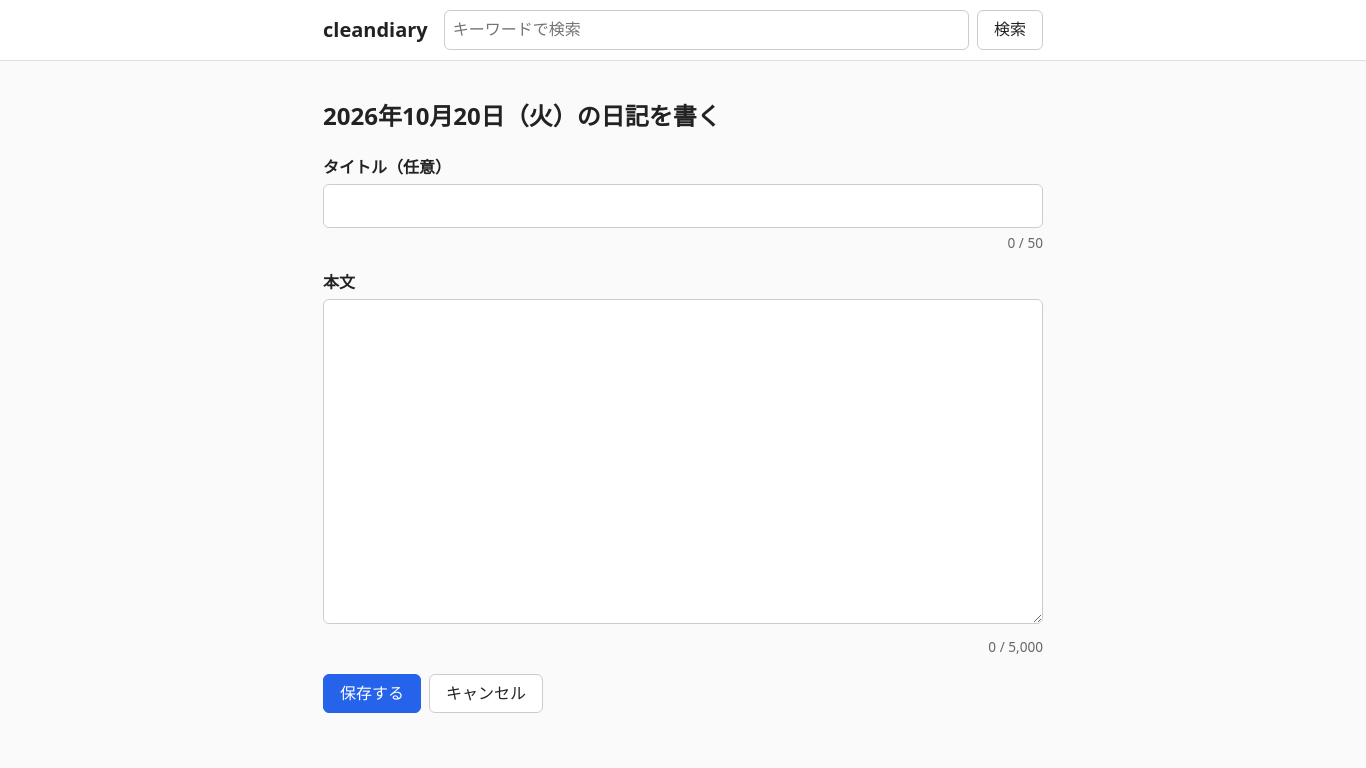
日記編集画面 › 新しく書く › 文字数を表示する
Check: the text "0 / 5,000" is shown, box x1=988 y1=637 x2=1043 y2=656
Type "こんにちは" into the text box labelled "本文" at {"x": 683, "y": 462}, box x1=323 y1=299 x2=1043 y2=624
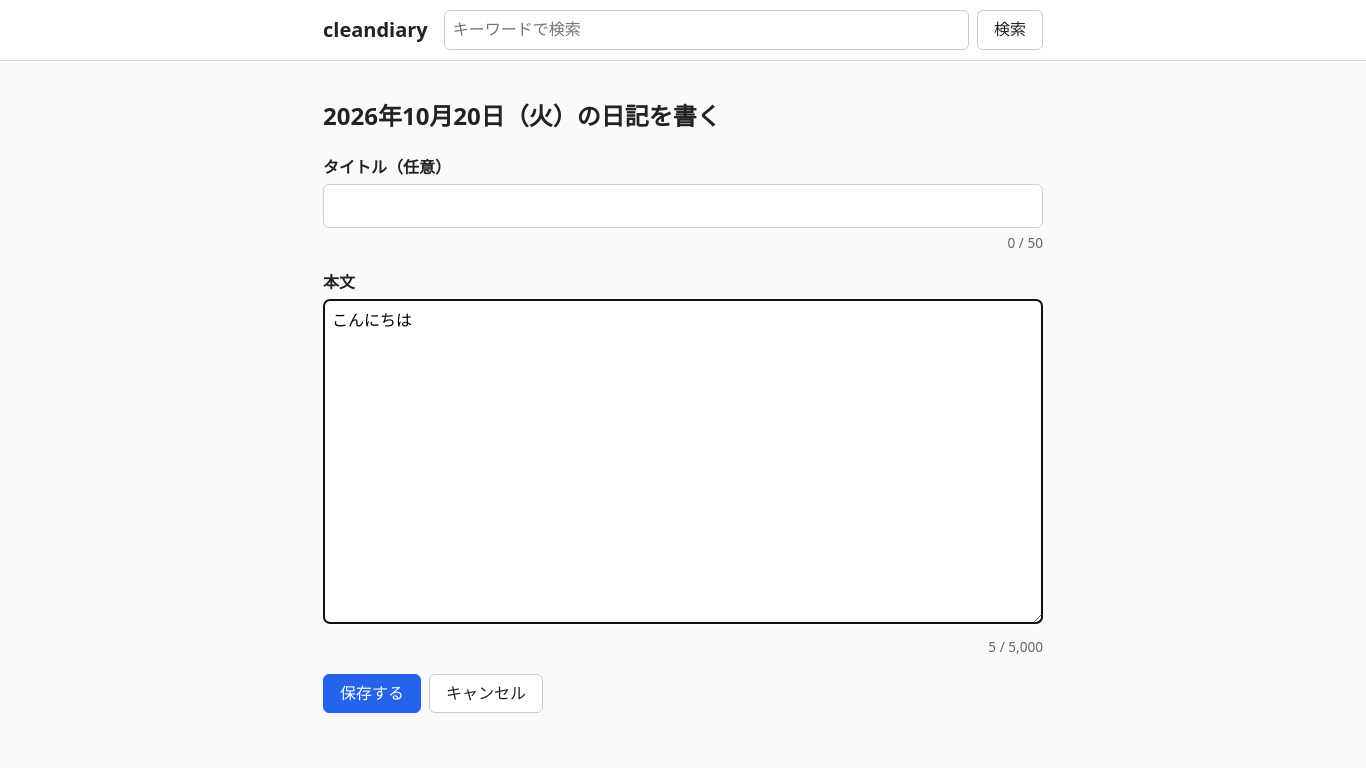
Check: the text "5 / 5,000" is shown, box x1=988 y1=637 x2=1043 y2=656
